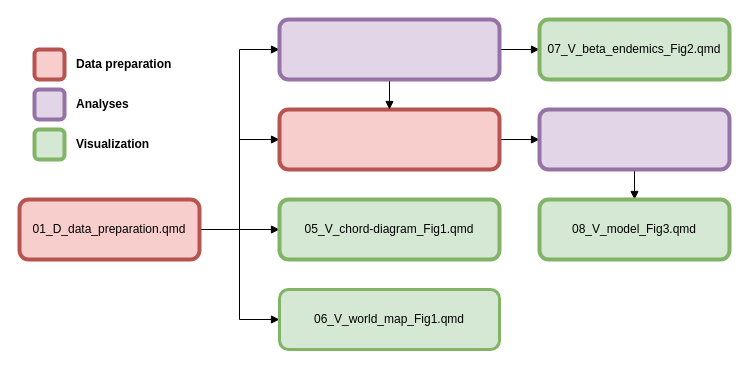
The diagram is 748 pixels wide and 368 high, and some of its shapes have lost their labels. Here are the shapes that lost their labels. From the top down, the box of each, then its label:
(277, 17, 501, 81): 02_A_beta-endemics-countries.qmd
(277, 107, 501, 171): 03_D_data_preparation_ models.qmd
(537, 107, 731, 171): 04_A_model_NBTs.qmd
